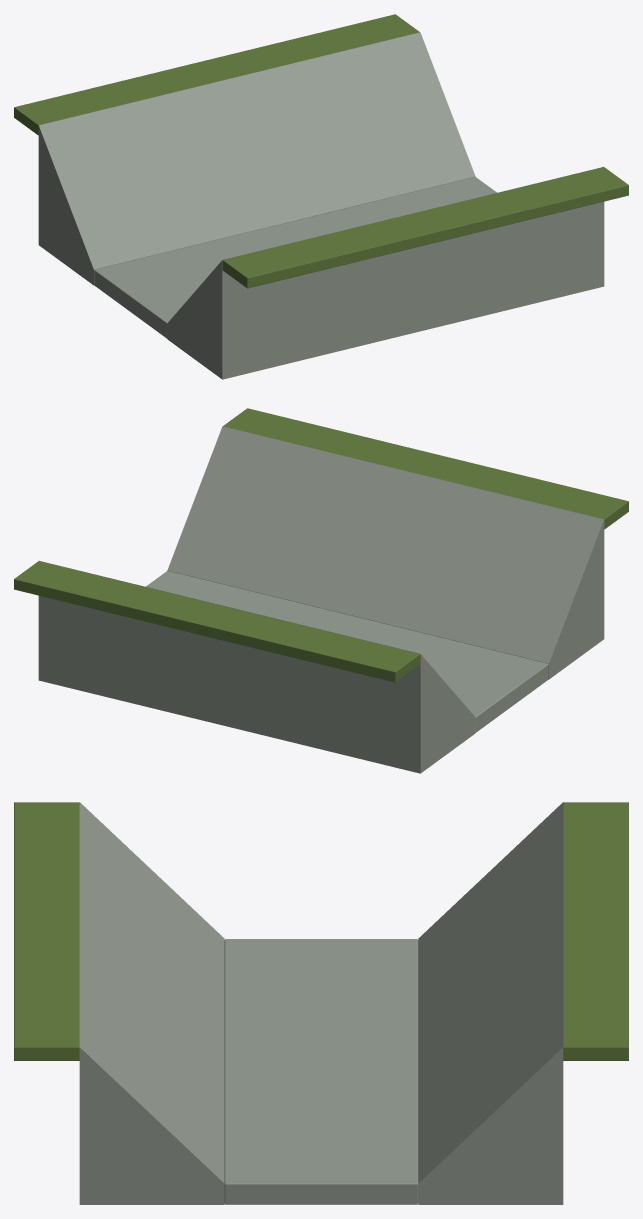
3 views of the same model, one above another, from view 1: azimuth 30°, elevation 25°; view 2: azimuth 150°, elevation 25°; view 3: azimuth 270°, elevation 25° (orthographic). The views are drawn at different scales.
Parts seen in each view (by area): view 1: CANAL_Slope.001, CANAL_Slope, CANAL_Verge.001, CANAL_Bed, CANAL_Verge; view 2: CANAL_Slope, CANAL_Slope.001, CANAL_Verge, CANAL_Bed, CANAL_Verge.001; view 3: CANAL_Bed, CANAL_Slope, CANAL_Slope.001, CANAL_Verge, CANAL_Verge.001.
Part boxes in pixels (left/top/right/bottom): CANAL_Slope.001: left=38, top=32, right=475, bottom=285; CANAL_Slope: left=167, top=167, right=604, bottom=379; CANAL_Verge.001: left=222, top=167, right=628, bottom=288; CANAL_Bed: left=94, top=177, right=496, bottom=338; CANAL_Verge: left=14, top=14, right=419, bottom=135; CANAL_Slope: left=167, top=426, right=604, bottom=679; CANAL_Slope.001: left=38, top=561, right=475, bottom=773; CANAL_Verge: left=14, top=561, right=420, bottom=682; CANAL_Bed: left=146, top=571, right=548, bottom=732; CANAL_Verge.001: left=223, top=408, right=628, bottom=529; CANAL_Bed: left=224, top=939, right=418, bottom=1204; CANAL_Slope: left=79, top=802, right=224, bottom=1204; CANAL_Slope.001: left=418, top=802, right=563, bottom=1204; CANAL_Verge: left=563, top=802, right=628, bottom=1060; CANAL_Verge.001: left=14, top=802, right=79, bottom=1060.
Size of the model in its own units: 3 by 0.9 by 3.18.
